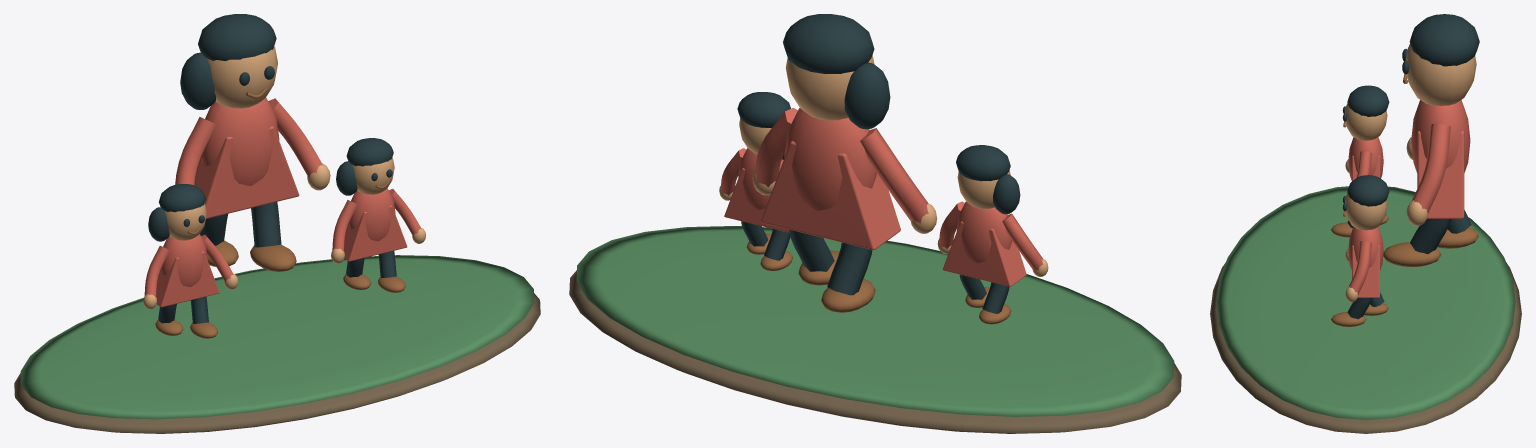
The model's file is younger-sisters.glb.
3 views of the same model, side by side, from view 1: azimuth 30°, elevation 25°; view 2: azimuth 150°, elevation 25°; view 3: azimuth 270°, elevation 25° (orthographic). The views are drawn at different scales.
Parts seen in each view (by area): view 1: younger-sisters_surface_01, younger-sisters_surface_05, younger-sisters_surface_03, younger-sisters_surface_00, younger-sisters_surface_02, younger-sisters_surface_04; view 2: younger-sisters_surface_01, younger-sisters_surface_05, younger-sisters_surface_03, younger-sisters_surface_00, younger-sisters_surface_02, younger-sisters_surface_04; view 3: younger-sisters_surface_01, younger-sisters_surface_05, younger-sisters_surface_03, younger-sisters_surface_00, younger-sisters_surface_02, younger-sisters_surface_04.
Part boxes in pixels (x1,y1,x2,y2): younger-sisters_surface_01: [20, 255, 534, 419]; younger-sisters_surface_05: [144, 98, 421, 307]; younger-sisters_surface_03: [148, 14, 396, 323]; younger-sisters_surface_00: [14, 293, 540, 433]; younger-sisters_surface_02: [143, 46, 425, 309]; younger-sisters_surface_04: [155, 88, 405, 338]; younger-sisters_surface_01: [576, 226, 1174, 416]; younger-sisters_surface_05: [721, 108, 1043, 286]; younger-sisters_surface_03: [737, 14, 1020, 313]; younger-sisters_surface_00: [569, 270, 1181, 433]; younger-sisters_surface_02: [719, 55, 1048, 276]; younger-sisters_surface_04: [746, 233, 1011, 324]; younger-sisters_surface_01: [1216, 186, 1515, 419]; younger-sisters_surface_05: [1348, 100, 1470, 297]; younger-sisters_surface_03: [1342, 14, 1479, 319]; younger-sisters_surface_00: [1210, 262, 1521, 433]; younger-sisters_surface_02: [1345, 44, 1476, 302]; younger-sisters_surface_04: [1331, 74, 1478, 326].
Bounding box in the file's own units: 4.56 × 2.74 × 2.5.
